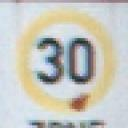speed_limit_30: (16, 8, 117, 114)
